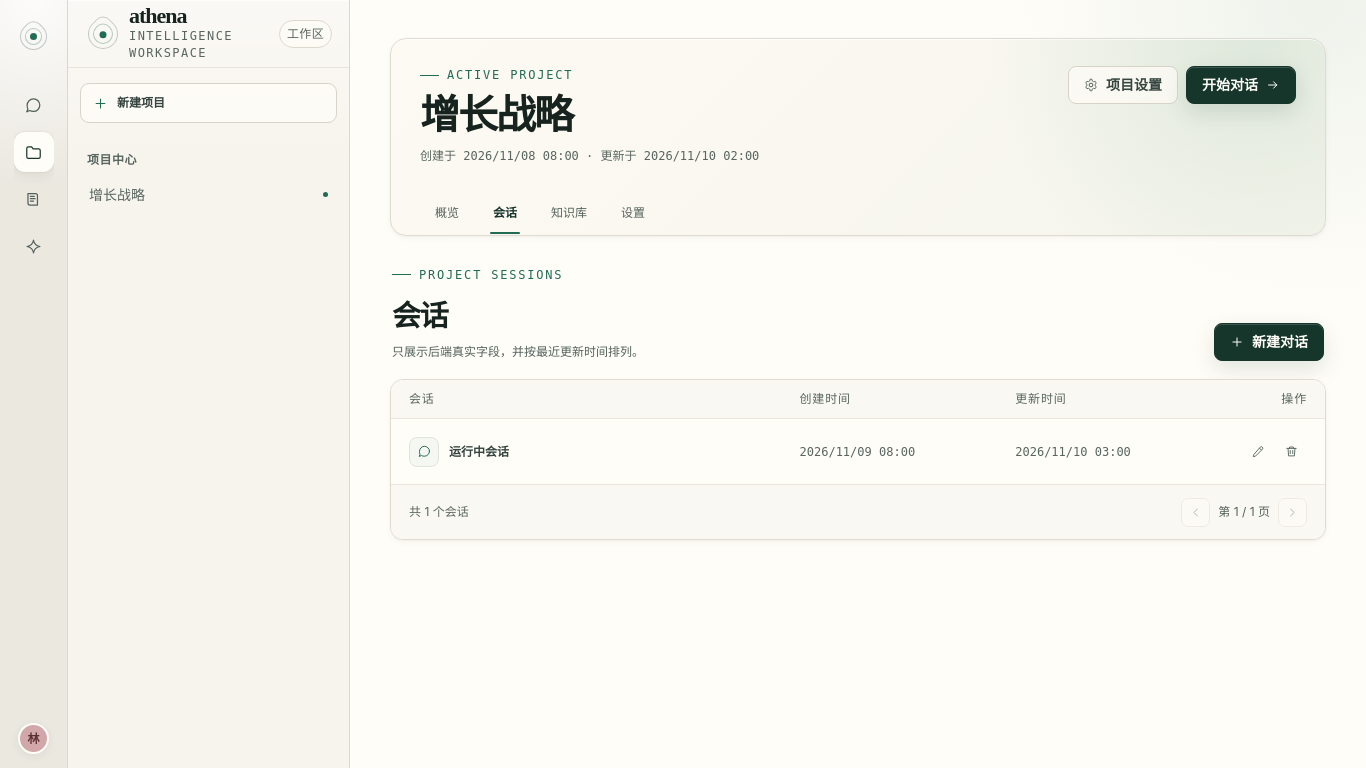
项目会话管理 › 活跃 Run 的 409 错误保留删除弹窗并显示原因
expect the text "运行中会话" is shown: met, box [449,443,509,461]
Click the button named "删除会话：运行中会话".
click(1292, 452)  # box [1276,436,1307,467]
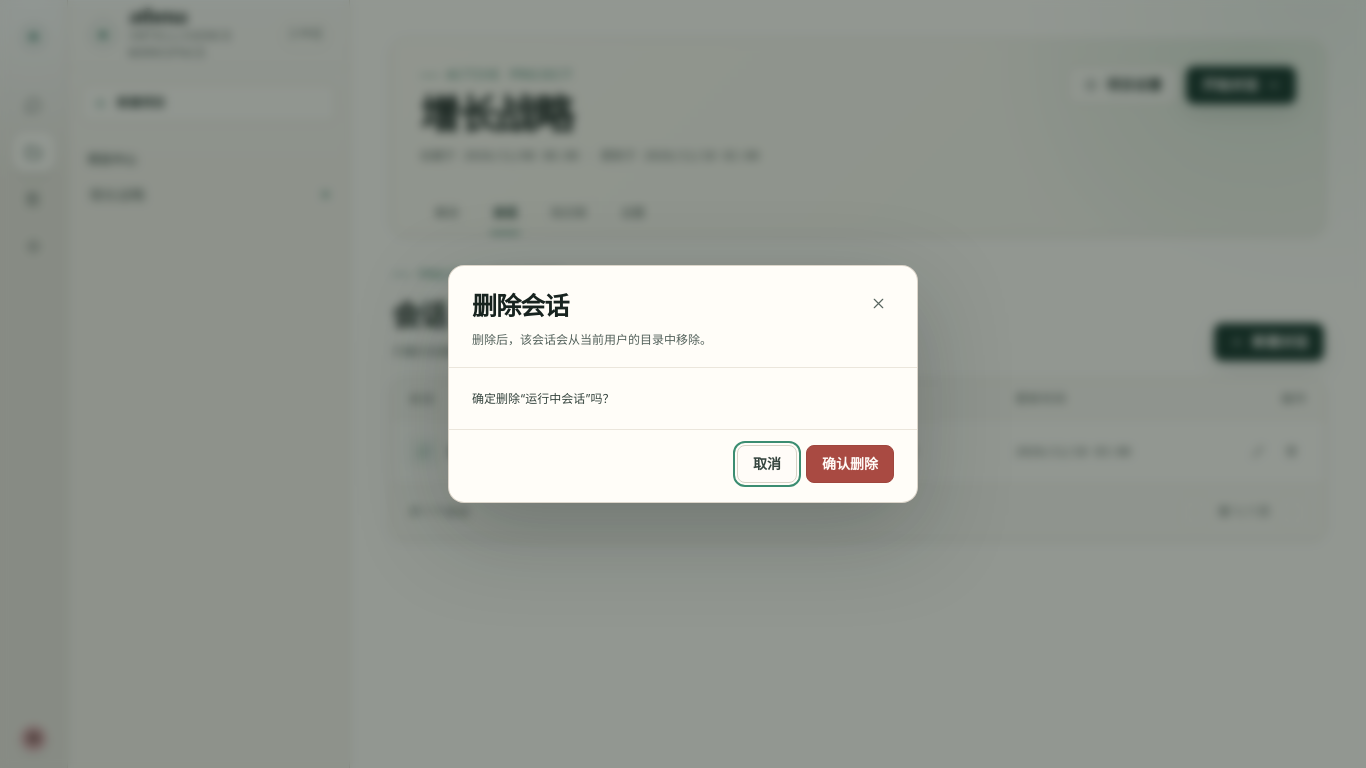
Click the button "确认删除".
click(850, 464)  # box [806,445,894,483]
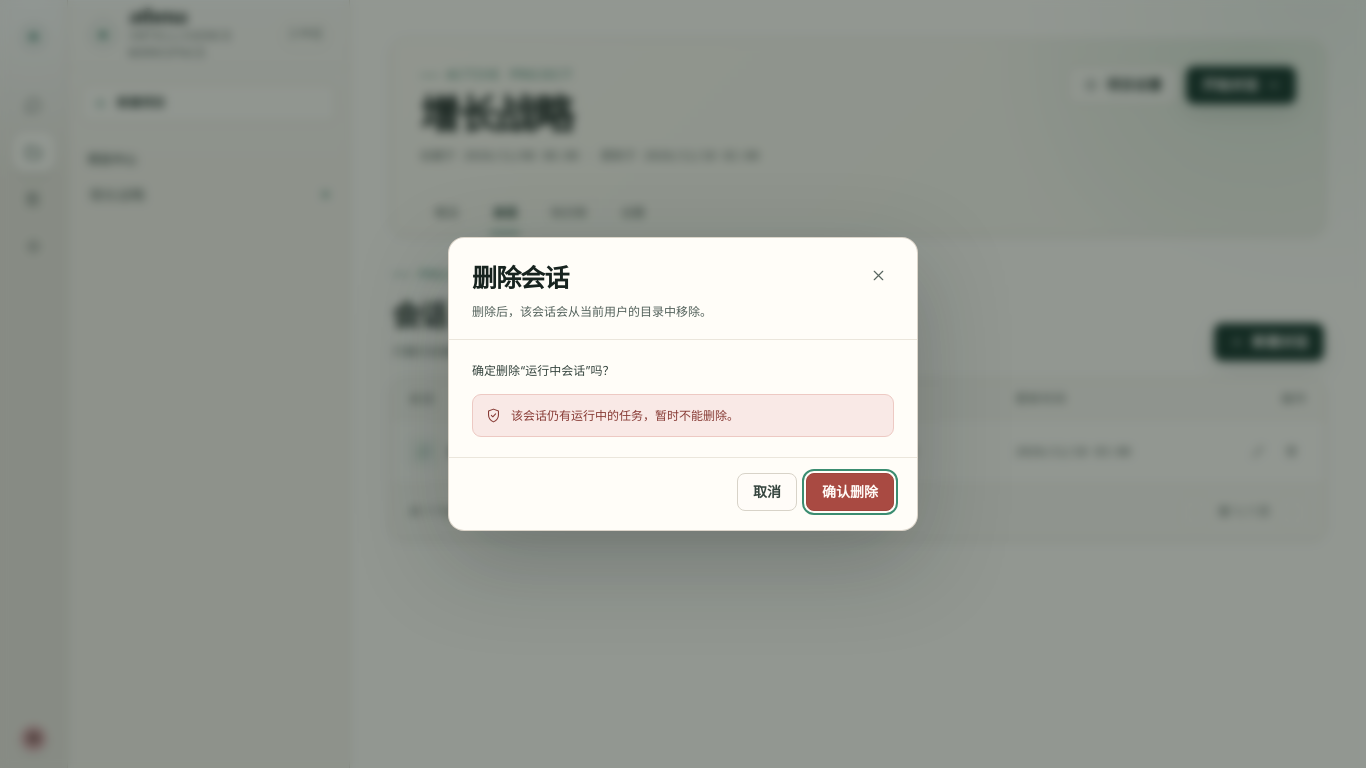
expect the dialog "删除会话" is shown: met, box [448,237,918,531]
expect the text "该会话仍有运行中的任务，暂时不能删除。" is shown: met, box [511,408,739,423]
